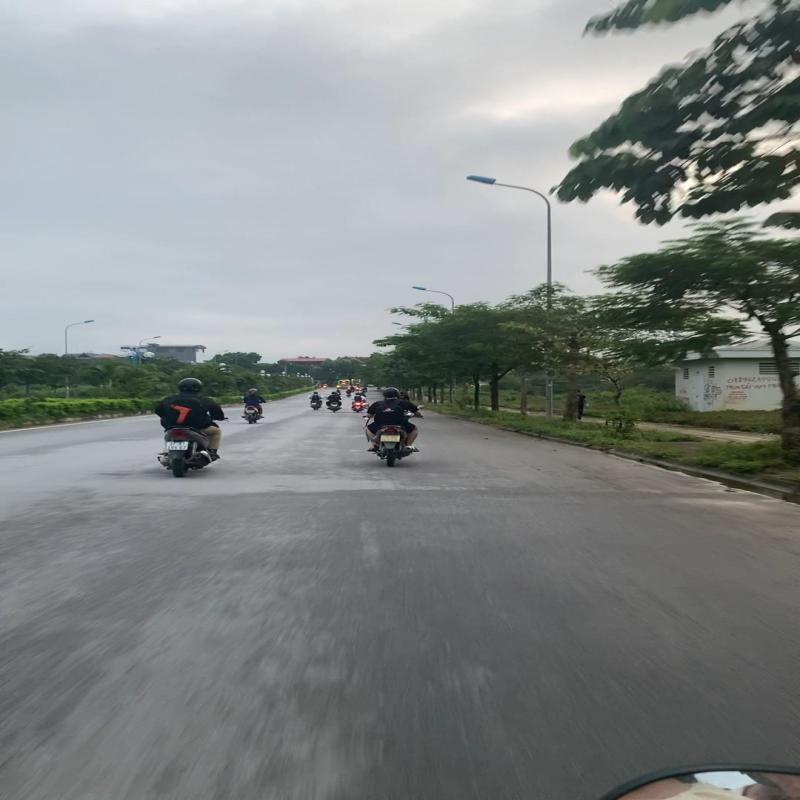licenseplate: (163, 440, 192, 451)
motorcyclist: (155, 376, 226, 476)
